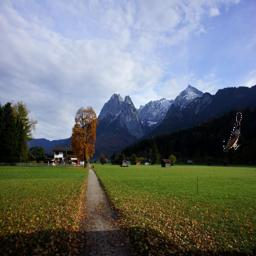Swallow: (223, 112, 242, 152)
